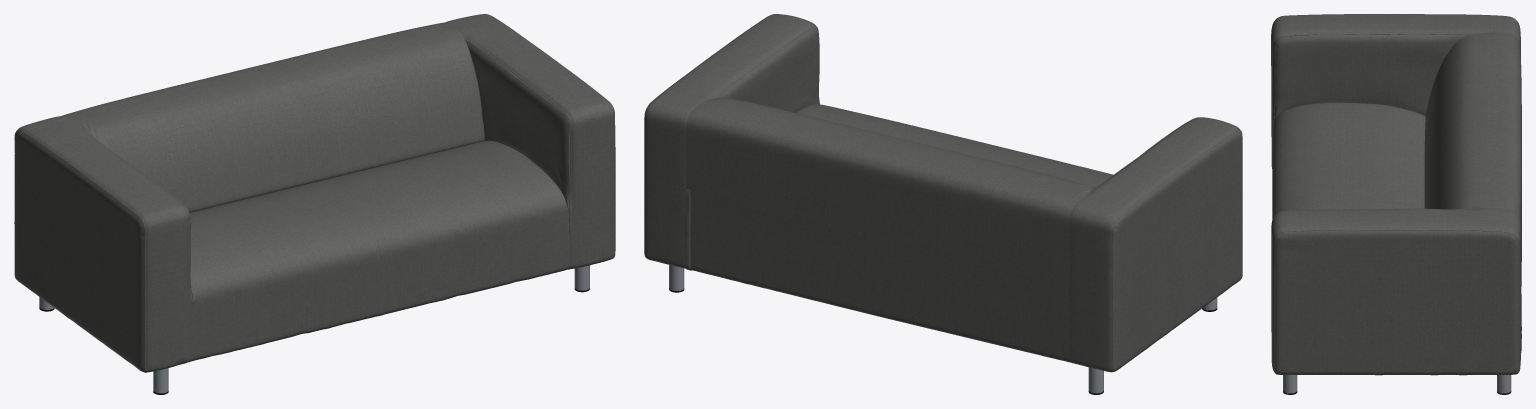
The model's file is Sofa.glb.
3 views of the same model, side by side, from view 1: azimuth 30°, elevation 25°; view 2: azimuth 150°, elevation 25°; view 3: azimuth 270°, elevation 25° (orthographic). The views are drawn at different scales.
Parts seen in each view (by area): view 1: KLIPPAN_892.468.62; view 2: KLIPPAN_892.468.62; view 3: KLIPPAN_892.468.62.
Boxes of the visible parts, <box> form: KLIPPAN_892.468.62: <box>14,14,615,394</box>; KLIPPAN_892.468.62: <box>644,14,1242,394</box>; KLIPPAN_892.468.62: <box>1271,14,1521,394</box>.
Size of the model in its own units: 1.78 by 0.6753 by 0.8683.
1 material, 1 textured.
